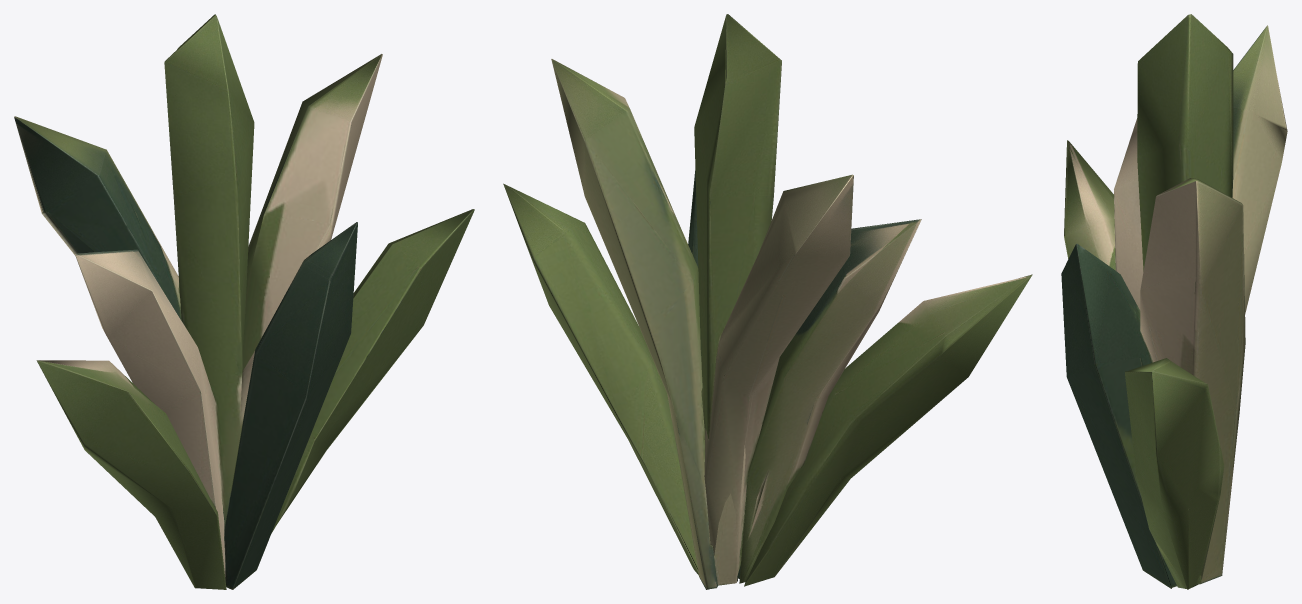
Rendered from AW-GRASS-001-v0.2.glb.
3 views of the same model, side by side, from view 1: azimuth 30°, elevation 25°; view 2: azimuth 150°, elevation 25°; view 3: azimuth 270°, elevation 25° (orthographic).
Parts seen in each view (by area): view 1: AW-GRASS-001_meter_ground_pivot; view 2: AW-GRASS-001_meter_ground_pivot; view 3: AW-GRASS-001_meter_ground_pivot.
Boxes of the visible parts, x1,y1,x2,y2 form: AW-GRASS-001_meter_ground_pivot: (14, 14, 474, 589); AW-GRASS-001_meter_ground_pivot: (503, 14, 1032, 589); AW-GRASS-001_meter_ground_pivot: (1061, 14, 1287, 589).
Bounding box in the file's own units: 0.3607 × 0.4 × 0.1466.
1 material, 1 textured.
